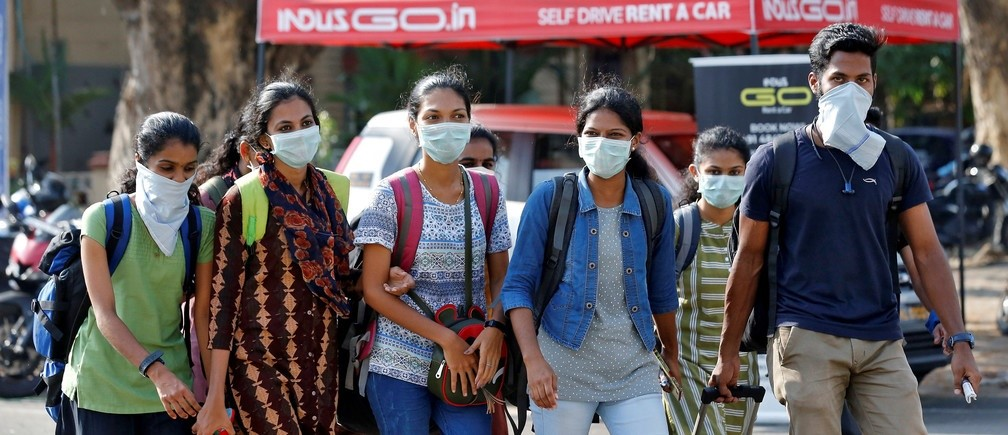face_with_mask: (403, 80, 482, 175), (570, 95, 648, 189), (132, 108, 200, 205), (682, 132, 755, 220), (256, 90, 328, 179), (809, 32, 877, 125)
